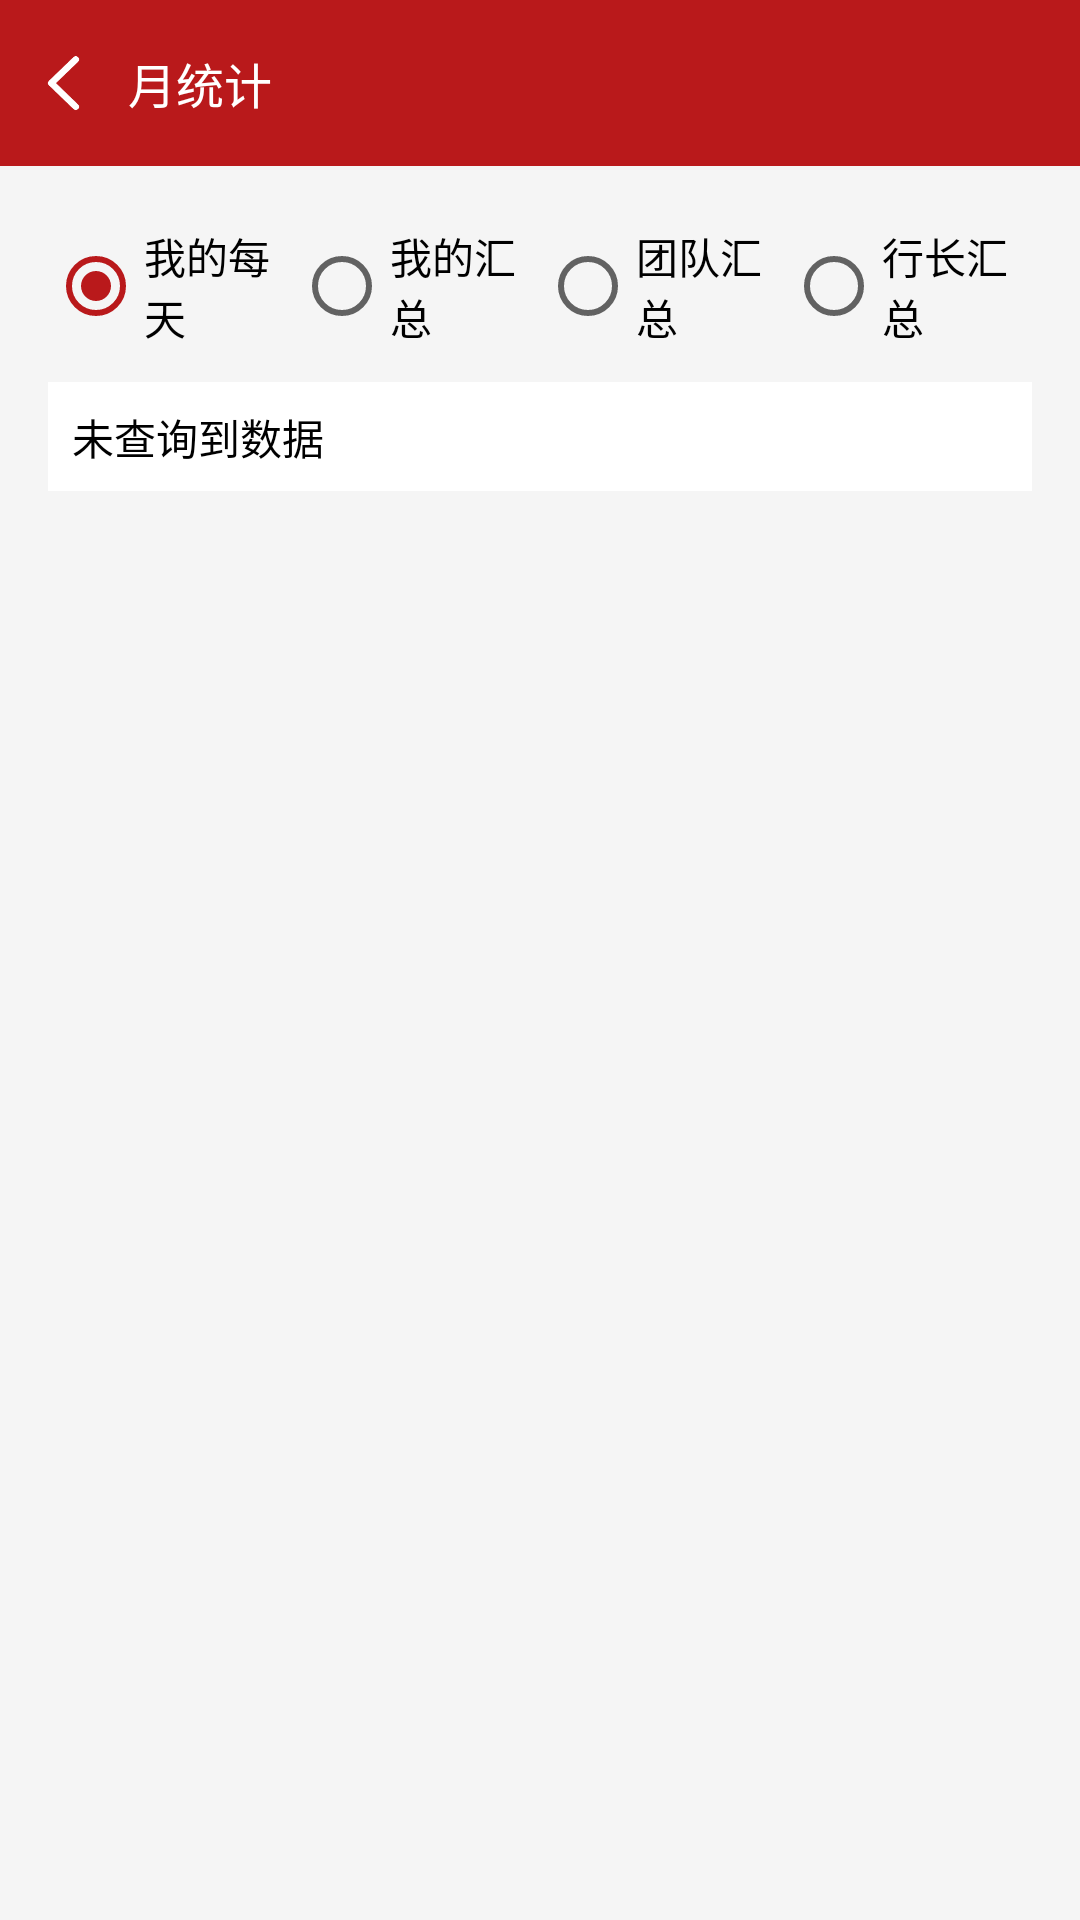

Named icons in this screenshot (1080×1920) and their centers, point (x, y):
back: point (63, 83)
